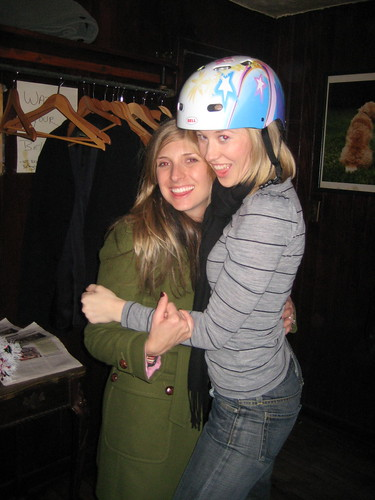helmet: (166, 44, 291, 127)
